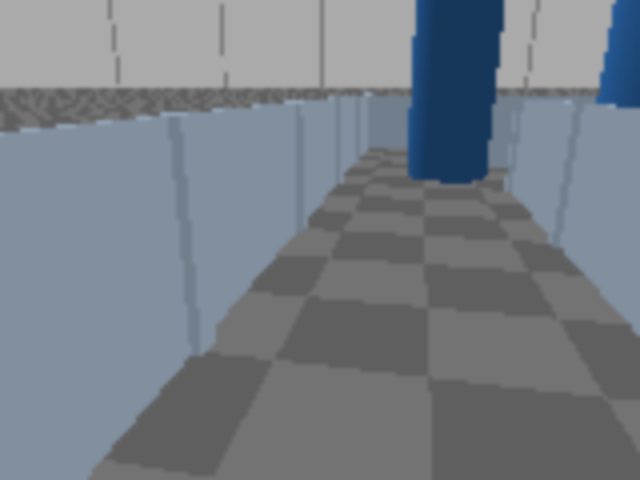person: (579, 0, 638, 243)
